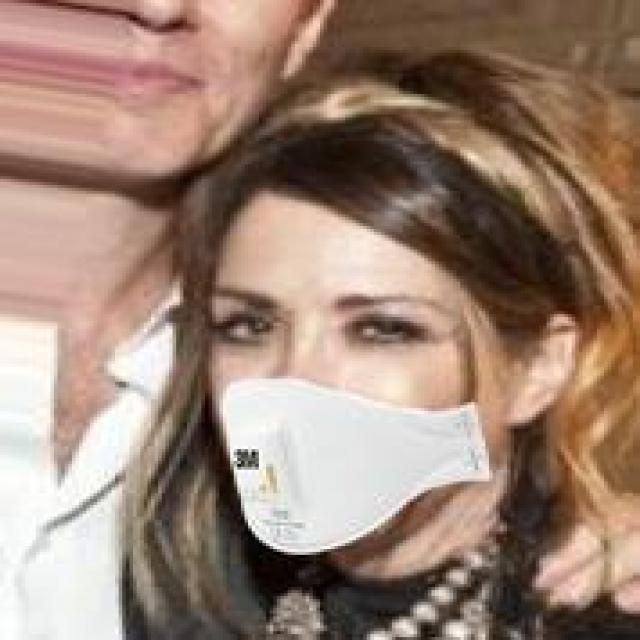mask: (104, 103, 590, 566)
